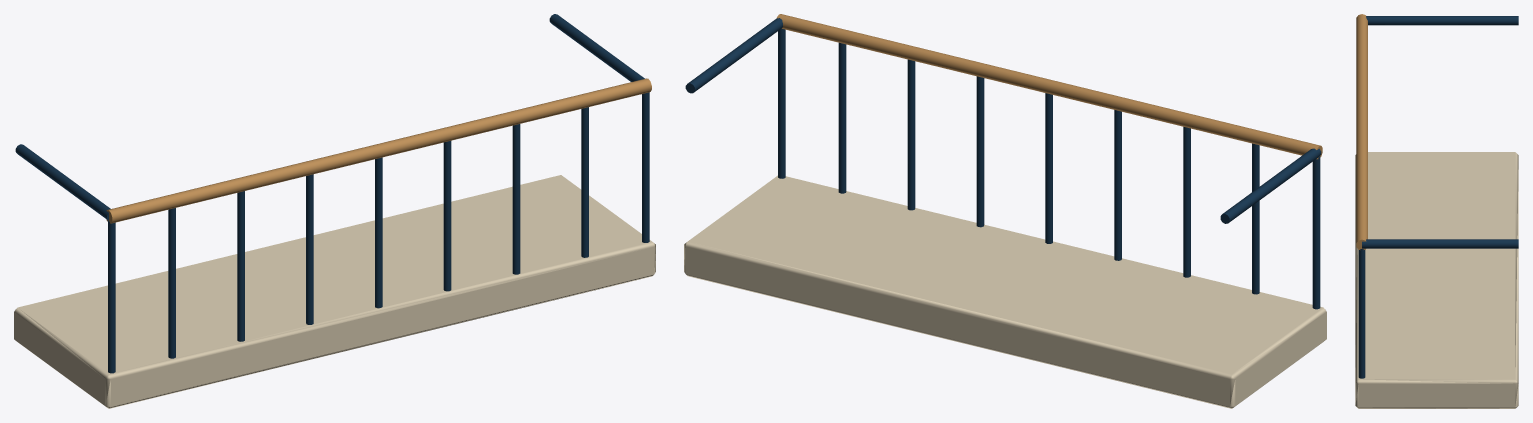
The model's file is balcony.fbx.
3 renders of one model, left to right at view 1: azimuth 30°, elevation 25°; view 2: azimuth 150°, elevation 25°; view 3: azimuth 270°, elevation 25°, orthographic. The views are drawn at different scales.
Parts seen in each view (by area): view 1: balcony; view 2: balcony; view 3: balcony.
Part boxes in pixels (bbox=[...]): balcony: bbox=[14, 14, 655, 408]; balcony: bbox=[684, 14, 1326, 408]; balcony: bbox=[1355, 14, 1518, 408].
Size of the model in its own units: 400 by 137 by 120.
